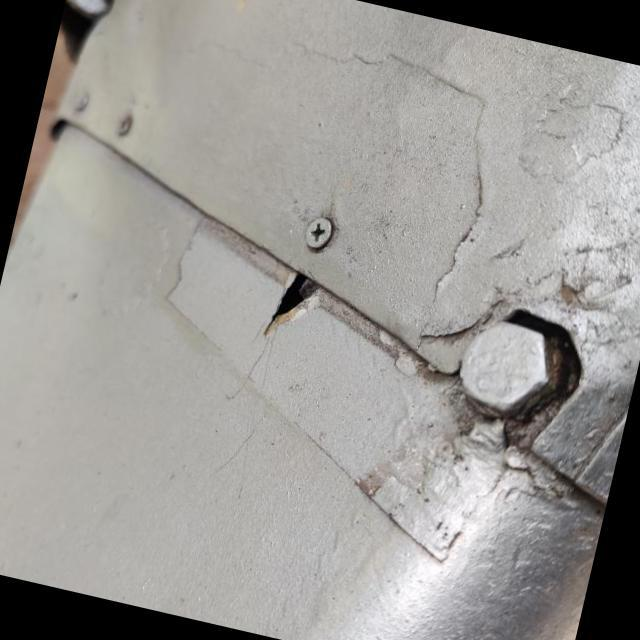Rupture: (218, 222, 382, 388)
